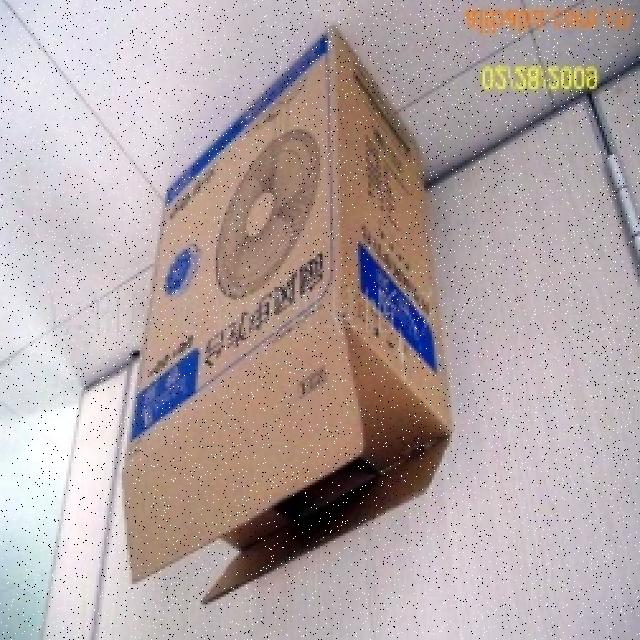box: (106, 37, 473, 597)
